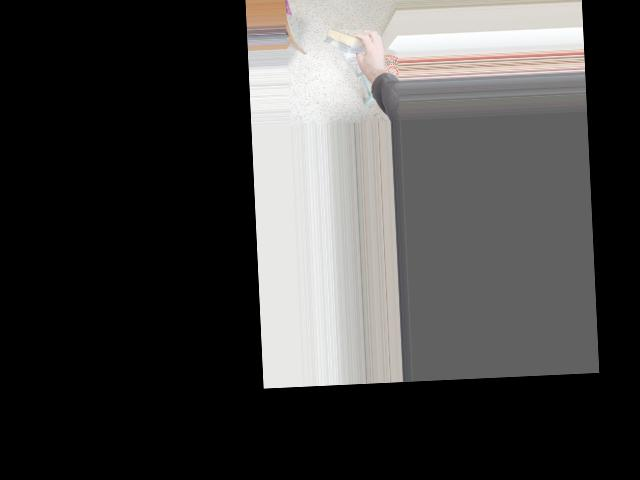cheese: (320, 26, 383, 57)
